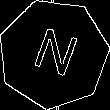N_S: (26, 23, 81, 84)
